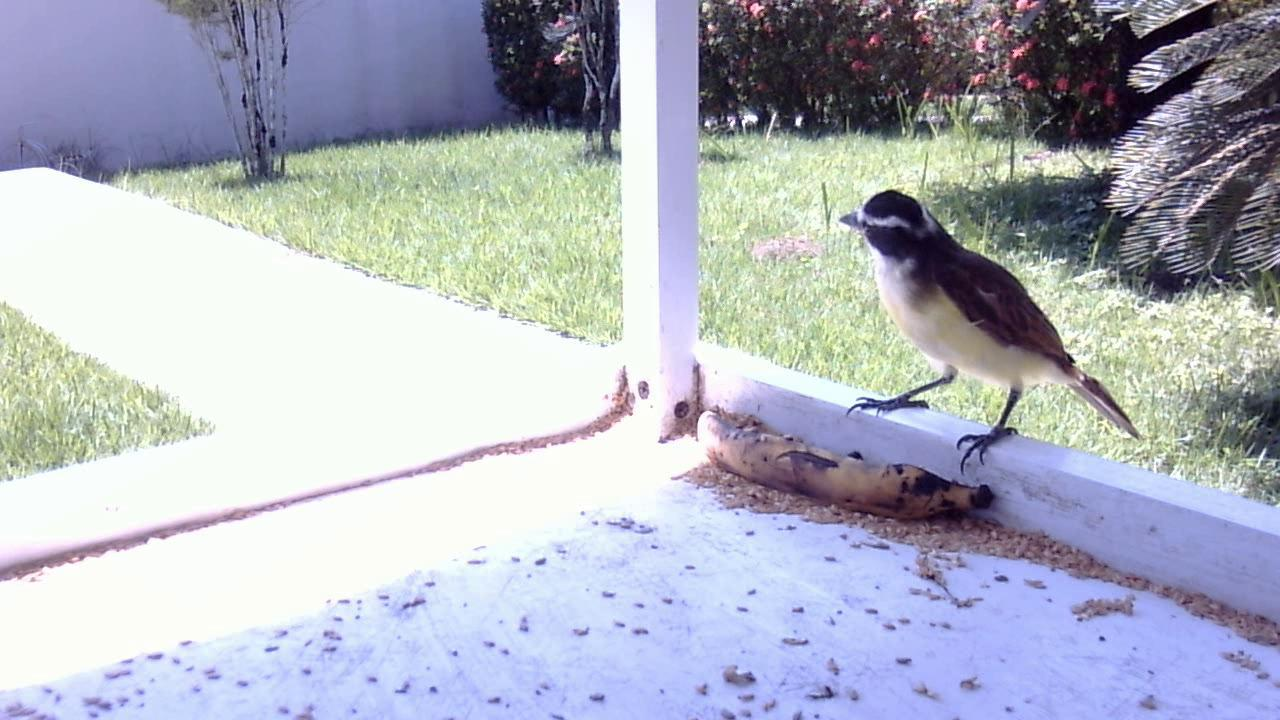bem_te_vi: (831, 181, 1150, 491)
